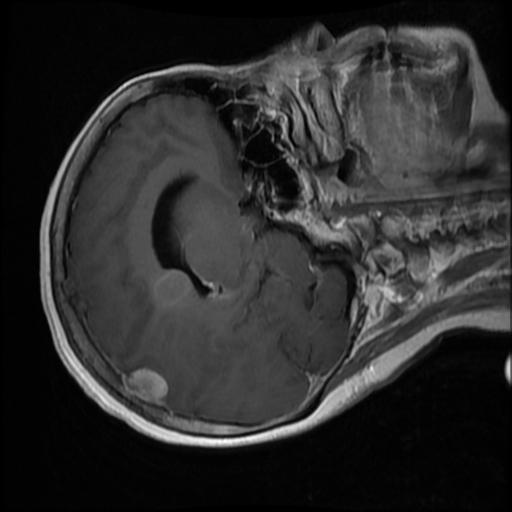glioma: (120, 368, 168, 403)
